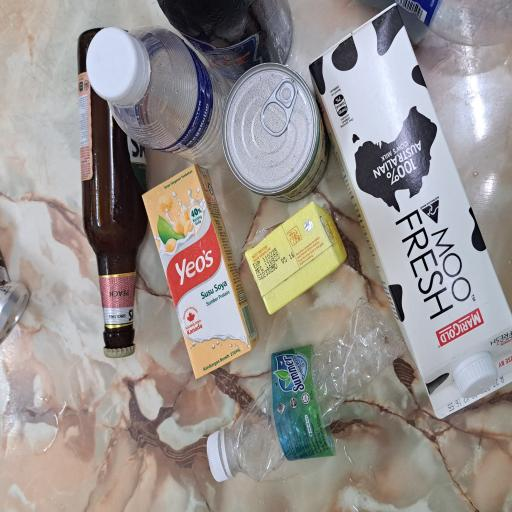can: (242, 299, 335, 435)
drink carton: (78, 418, 382, 512), (102, 188, 263, 329), (147, 333, 233, 473)
glass bottle: (113, 101, 365, 188), (331, 204, 384, 396)
plastic bottle: (19, 313, 159, 512), (268, 145, 361, 320)
plastic bottle cap: (310, 114, 362, 196), (24, 278, 63, 308)
pop tab: (282, 342, 326, 400)
